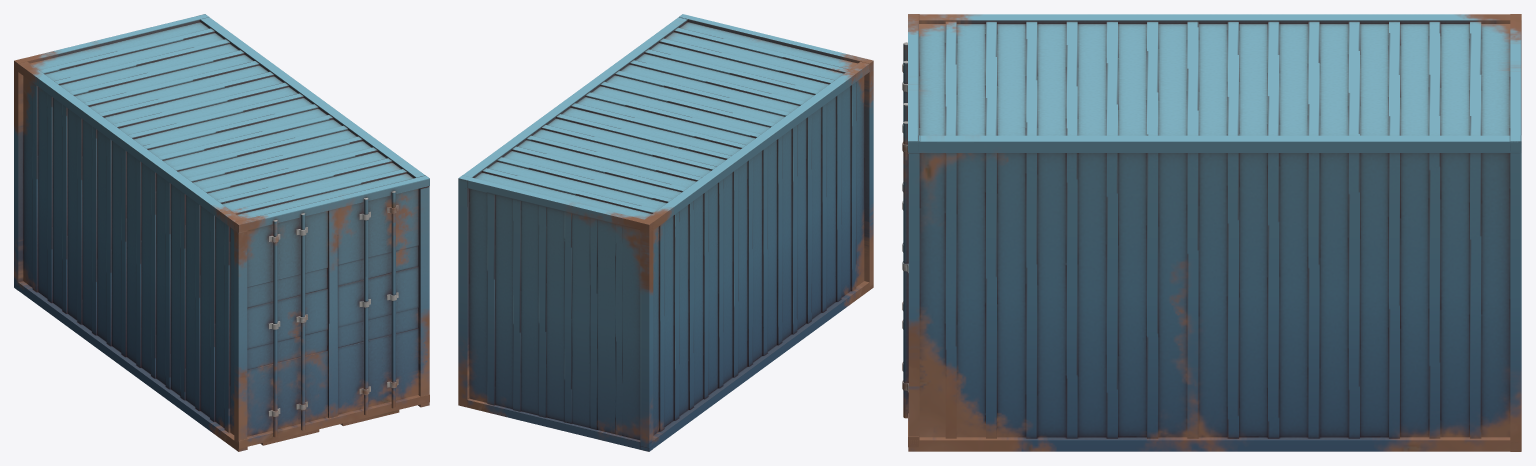
The model's file is Container_Blue.glb.
3 renders of one model, left to right at view 1: azimuth 30°, elevation 25°; view 2: azimuth 150°, elevation 25°; view 3: azimuth 270°, elevation 25°, orthographic. The views are drawn at different scales.
Visible parts, largest first — view 1: Container_Blue (×2); view 2: Container_Blue (×2); view 3: Container_Blue (×2).
Part boxes in pixels (x1,y1,x2,y2): Container_Blue (×2): (14, 14, 429, 451); Container_Blue (×2): (458, 14, 873, 451); Container_Blue (×2): (902, 14, 1521, 451).
Size of the model in its own units: 2.72 by 3.09 by 5.58.
1 material, 1 textured.
